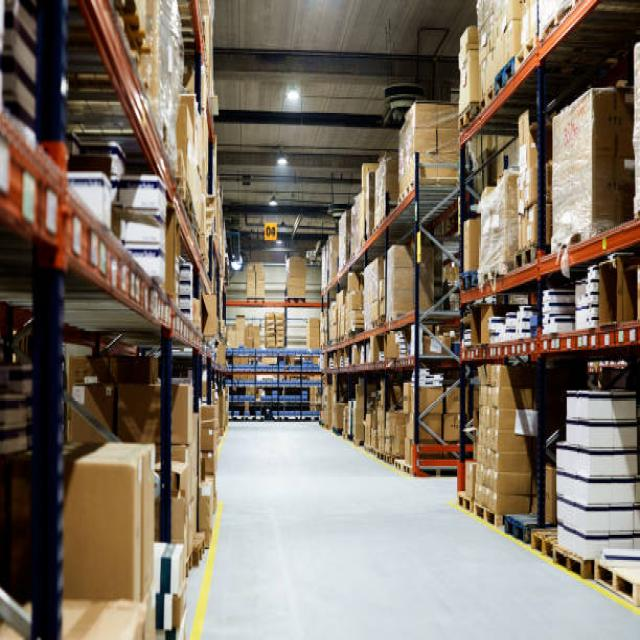Wooden-Pallets: (589, 553, 640, 610), (450, 479, 482, 520), (466, 505, 501, 539), (527, 526, 558, 563)
